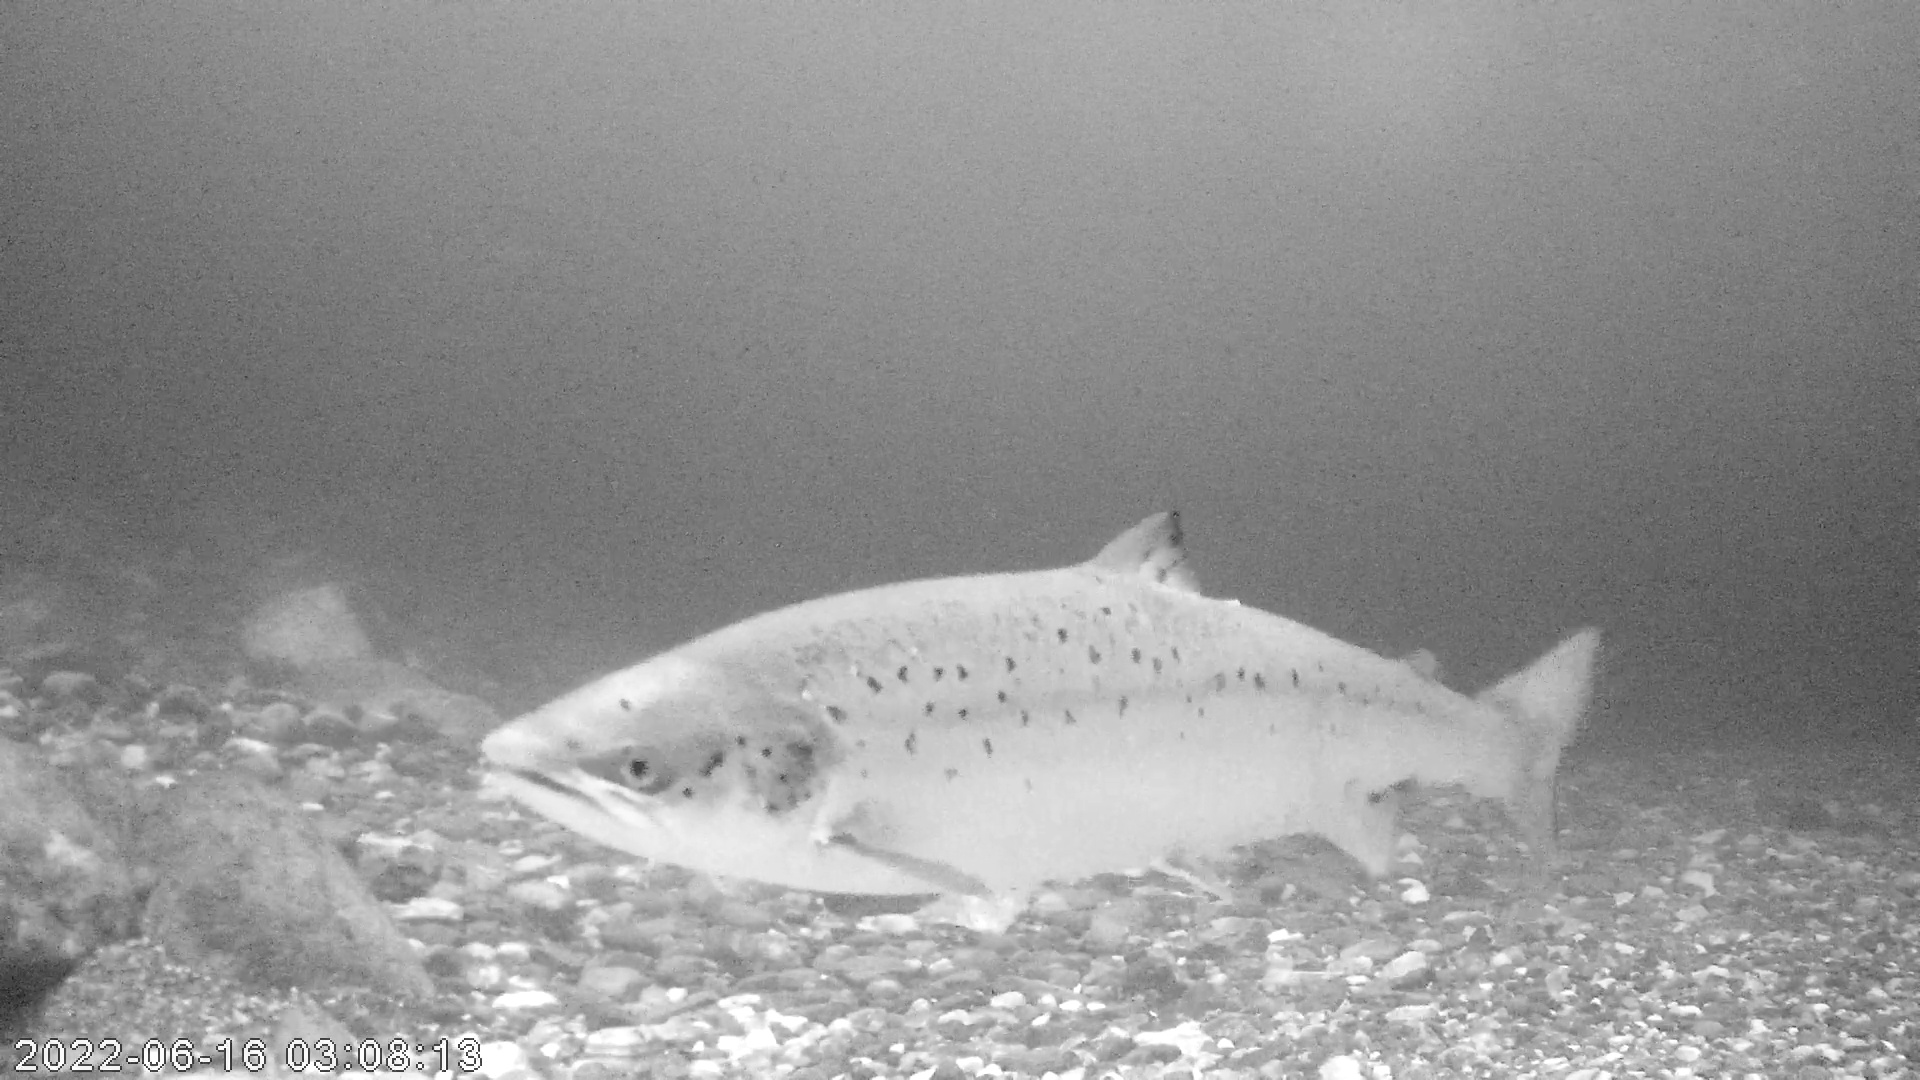salmon: (477, 506, 1600, 899)
